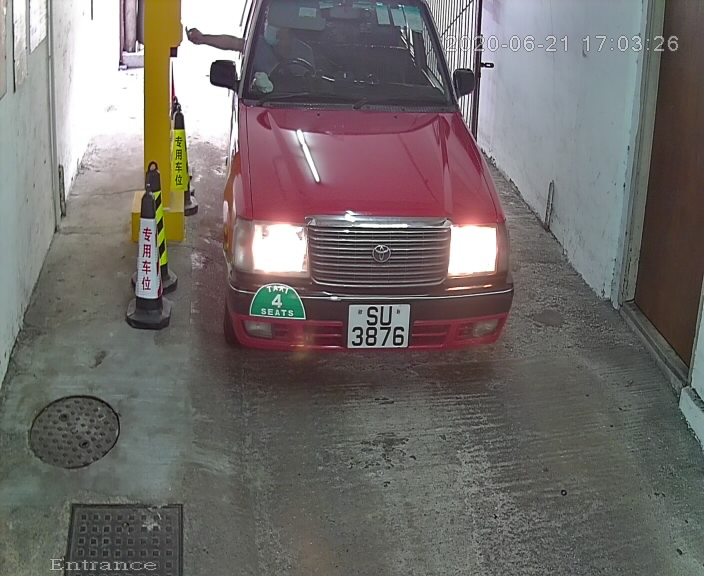taxi: (202, 1, 534, 397)
taxi_mark: (237, 268, 318, 329)
